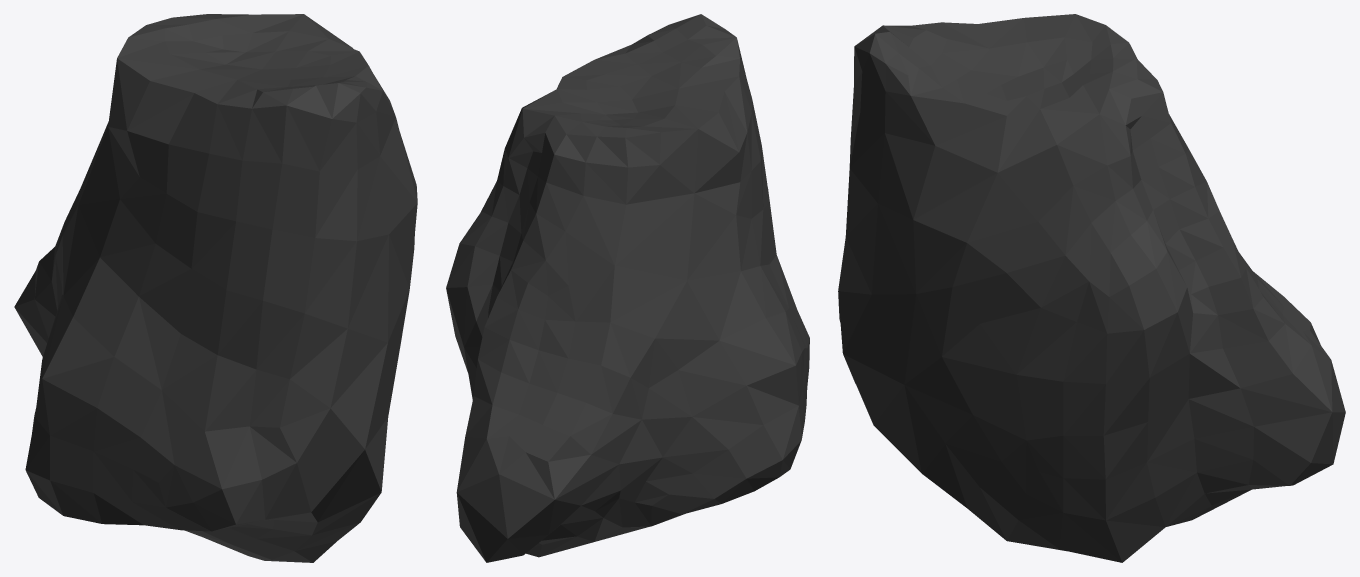
File: Ulnar_carpal_L.glb
The picture shows the model from 3 angles, left to right: view 1: azimuth 30°, elevation 25°; view 2: azimuth 150°, elevation 25°; view 3: azimuth 270°, elevation 25°; orthographic projection. The views are drawn at different scales.
Parts seen in each view (by area): view 1: Ulnar_carpal_L; view 2: Ulnar_carpal_L; view 3: Ulnar_carpal_L.
Part boxes in pixels (left/top/right/bottom): Ulnar_carpal_L: left=14, top=14, right=417, bottom=562; Ulnar_carpal_L: left=446, top=14, right=809, bottom=562; Ulnar_carpal_L: left=838, top=14, right=1345, bottom=562.
Bounding box in the file's own units: 0.0368 × 0.0545 × 0.0499.
Materials: 1 (1 with a texture image).
